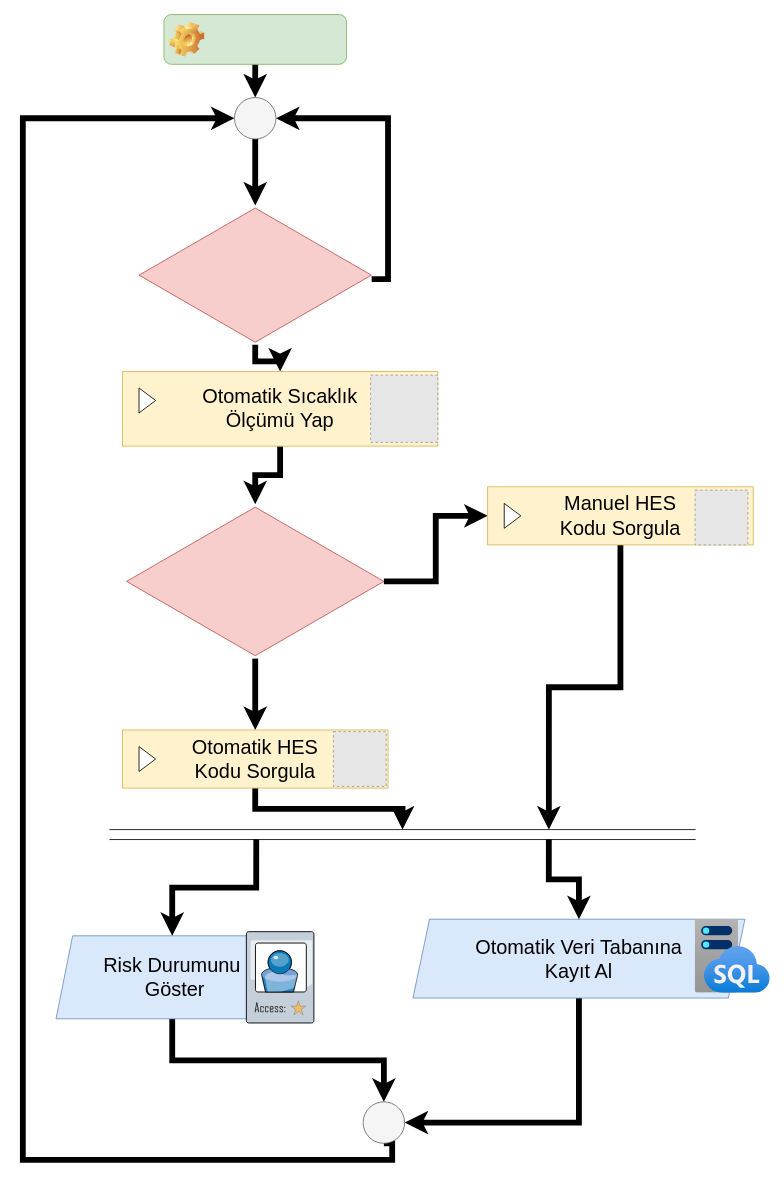
The diagram is 784 pixels wide and 1184 high, and some of its shapes have lost their labels. Grey dashed boxes stand in for pictures. Here are the shapes that lost their labels. From the top down, the centre of each, then its label:
point (255, 39): Cihazın Çalıştırılması
point (254, 275): Kamera Yüz Tespit Etti mi?
point (255, 581): Yüz Veri Tabanında Kayıtlı mı ?
